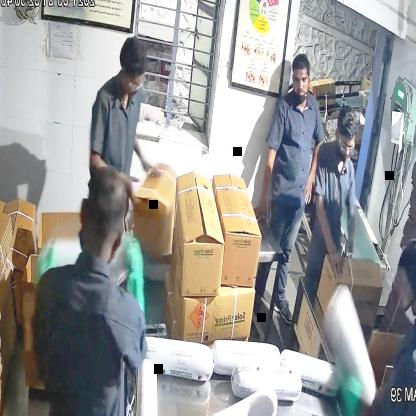goggles: (330, 130, 361, 158)
